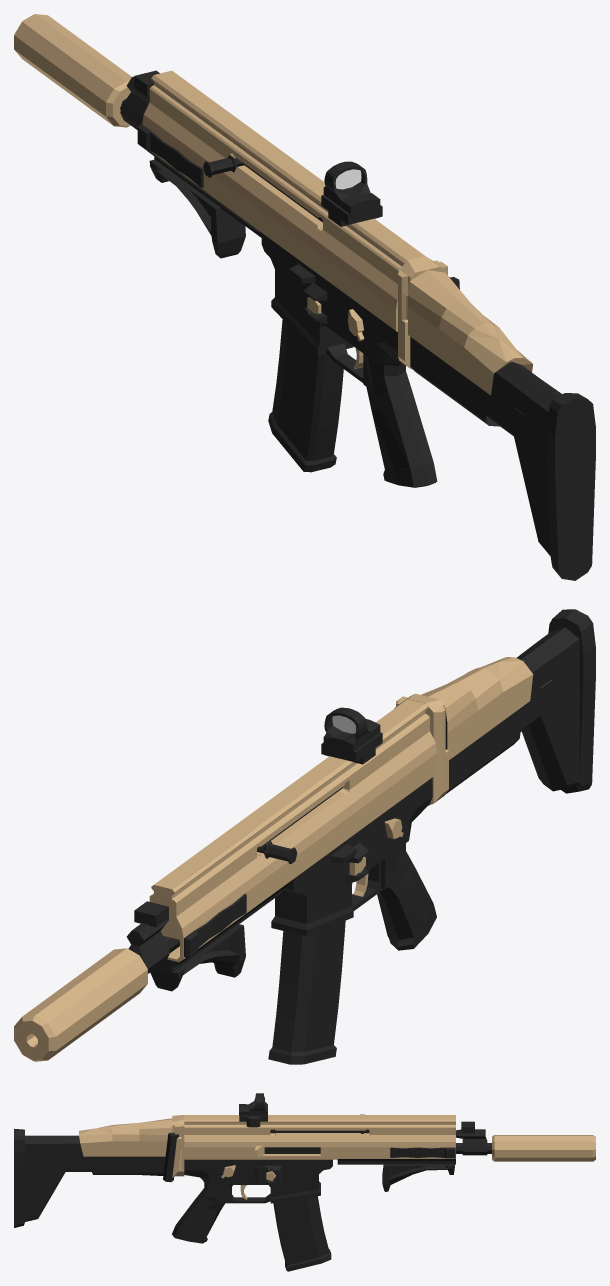
3 renders of one model, top to bottom at view 1: azimuth 30°, elevation 25°; view 2: azimuth 150°, elevation 25°; view 3: azimuth 270°, elevation 25°, orthographic. The views are drawn at different scales.
Parts seen in each view (by area): view 1: Scar; view 2: Scar; view 3: Scar.
Part boxes in pixels (bbox=[...]): Scar: bbox=[14, 14, 595, 580]; Scar: bbox=[14, 609, 595, 1064]; Scar: bbox=[14, 1093, 595, 1271].
Size of the model in its own units: 0.7053 by 2.81 by 8.56.
3 materials, 2 textured.
